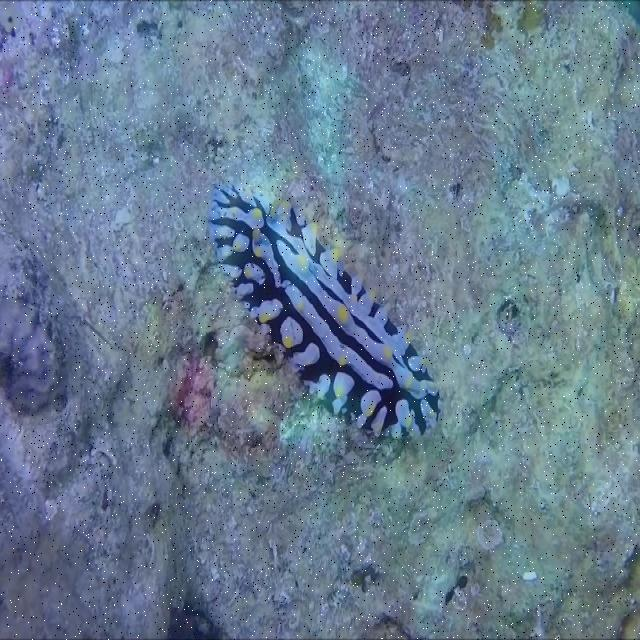reefs: (208, 182, 442, 440)
